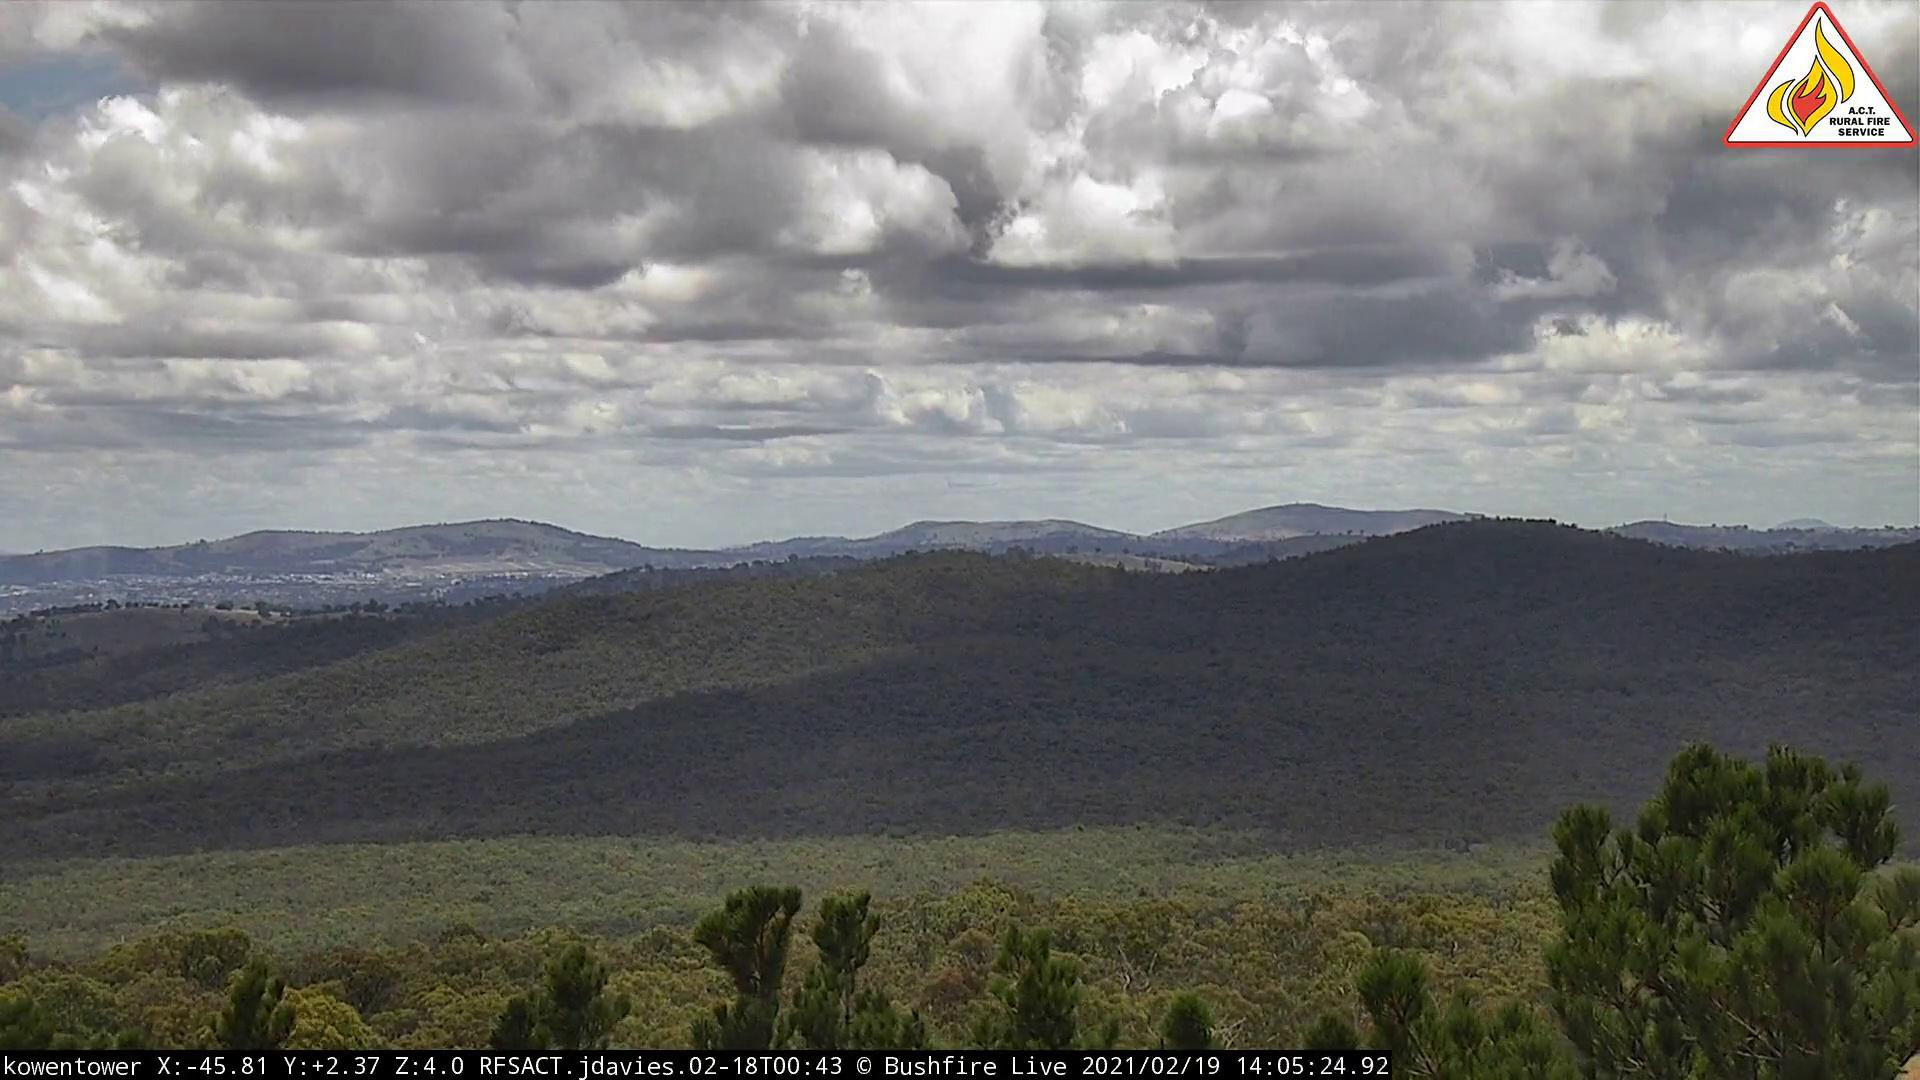Smoke: (102, 574, 136, 622)
